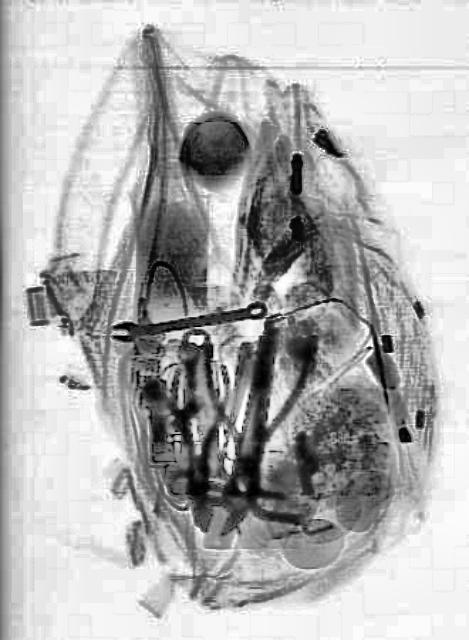Pliers: (189, 330, 313, 492)
Wrench: (165, 322, 249, 540), (108, 294, 266, 344)
